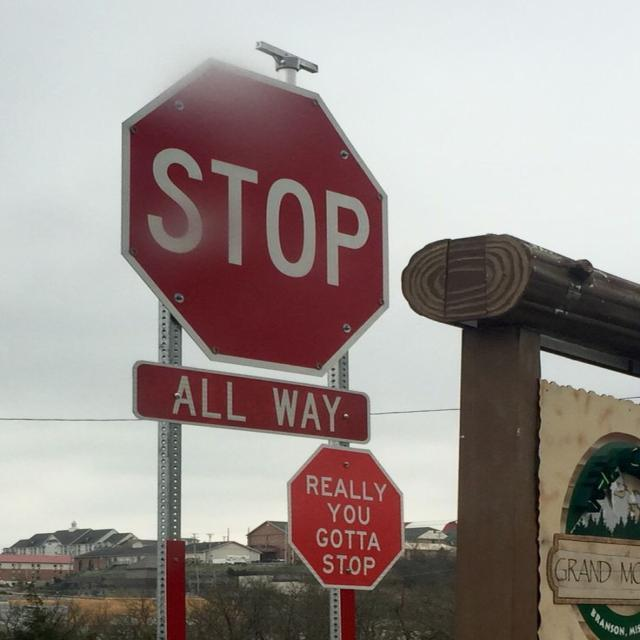stop: (119, 56, 389, 375), (286, 443, 404, 591)
